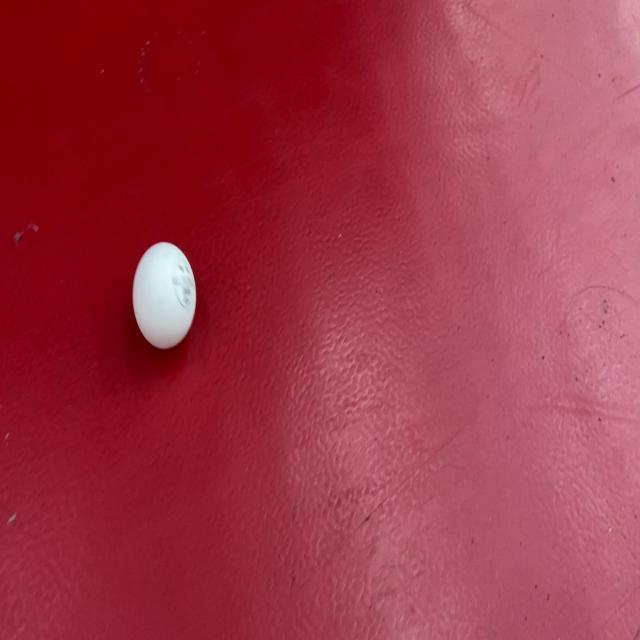ping-pong-ball: (129, 238, 199, 352)
